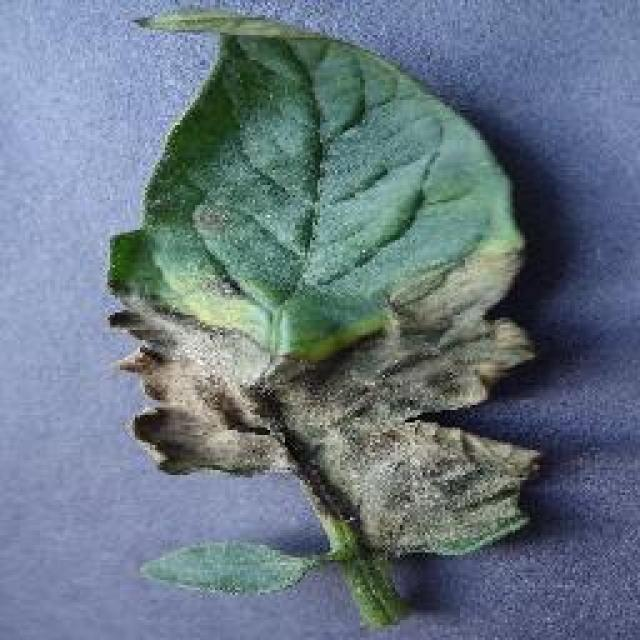Tomato Late Blight: (97, 260, 548, 590)
